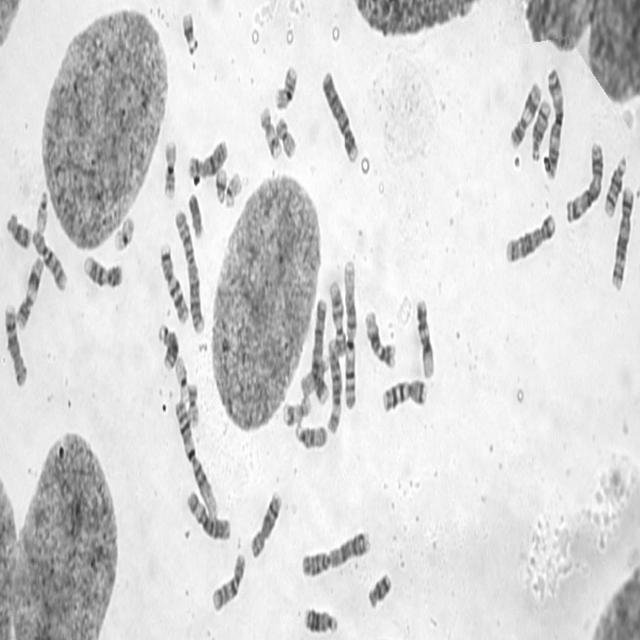A1: (172, 394, 218, 518), (341, 256, 357, 410)
A2: (173, 206, 205, 336), (298, 524, 372, 579)
A3: (563, 138, 604, 224), (542, 62, 564, 180)
B4: (320, 65, 360, 166), (310, 295, 330, 405)
B5: (504, 208, 557, 265), (608, 182, 634, 292)
C10: (209, 548, 247, 614), (31, 225, 68, 292)
C11: (508, 77, 542, 152), (14, 252, 43, 331)
C12: (362, 304, 397, 370), (414, 294, 435, 381)
C6: (185, 486, 232, 543), (324, 336, 343, 436)
C7: (158, 239, 190, 326), (380, 375, 428, 414)
C8: (248, 486, 283, 560), (2, 301, 28, 387)
C9: (82, 253, 123, 289), (329, 277, 347, 359)
D13: (302, 602, 338, 637), (156, 320, 179, 372)
D14: (601, 152, 627, 220), (529, 95, 551, 163)
D15: (298, 352, 329, 400), (293, 419, 328, 451)
E16: (273, 61, 299, 110), (161, 134, 178, 200)
E17: (258, 102, 282, 161), (280, 391, 312, 428)
E18: (4, 208, 32, 250), (366, 568, 392, 611)
F19: (111, 210, 136, 254), (173, 351, 190, 400)
F20: (274, 112, 297, 158), (185, 380, 200, 429)
G21: (180, 8, 200, 56), (214, 164, 228, 204)
G22: (223, 168, 242, 208), (34, 186, 49, 233)
X: (186, 134, 229, 180)
Y: (187, 189, 204, 239)
